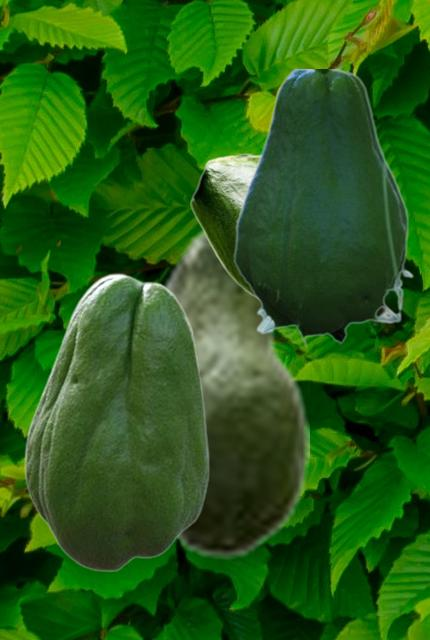sayote: (24, 273, 209, 571), (155, 222, 308, 559), (233, 69, 413, 348), (190, 153, 259, 301)
